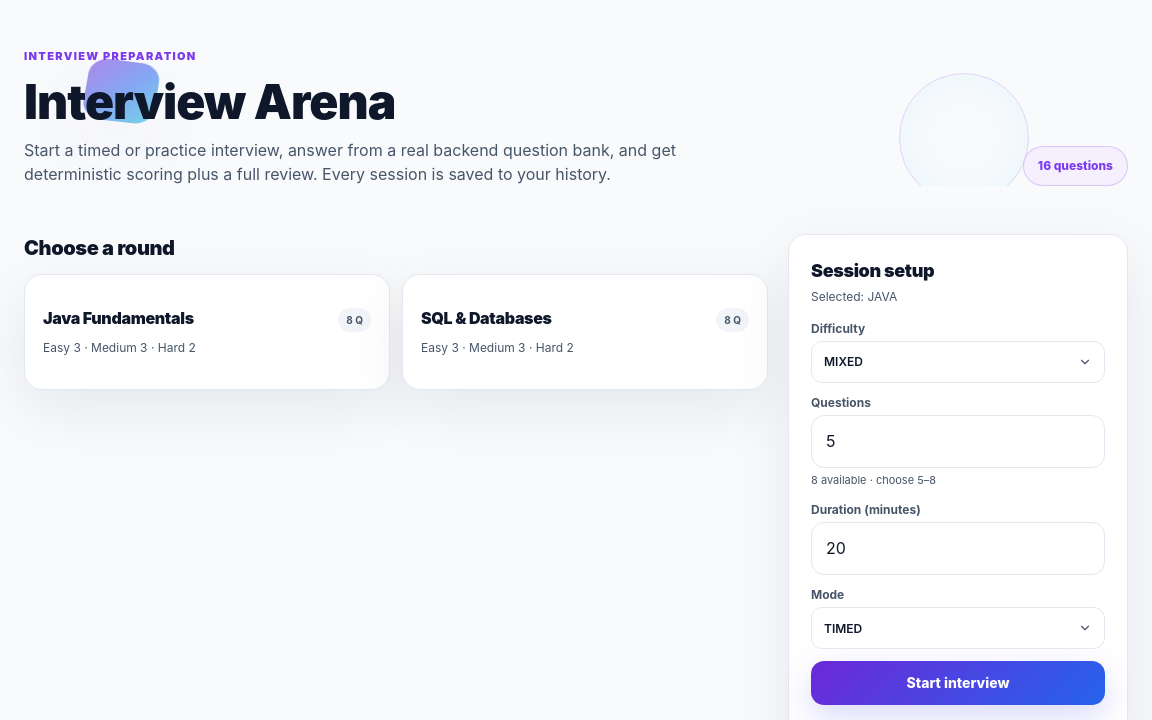
Test: InterviewArena page › starts a backend session and renders the real questions
This screenshot has width=1152, height=720.
What coordinates should you click on to do the following:
click the button "Start interview"
I would click on:
 (958, 683)
Its box is [811,661,1105,705].
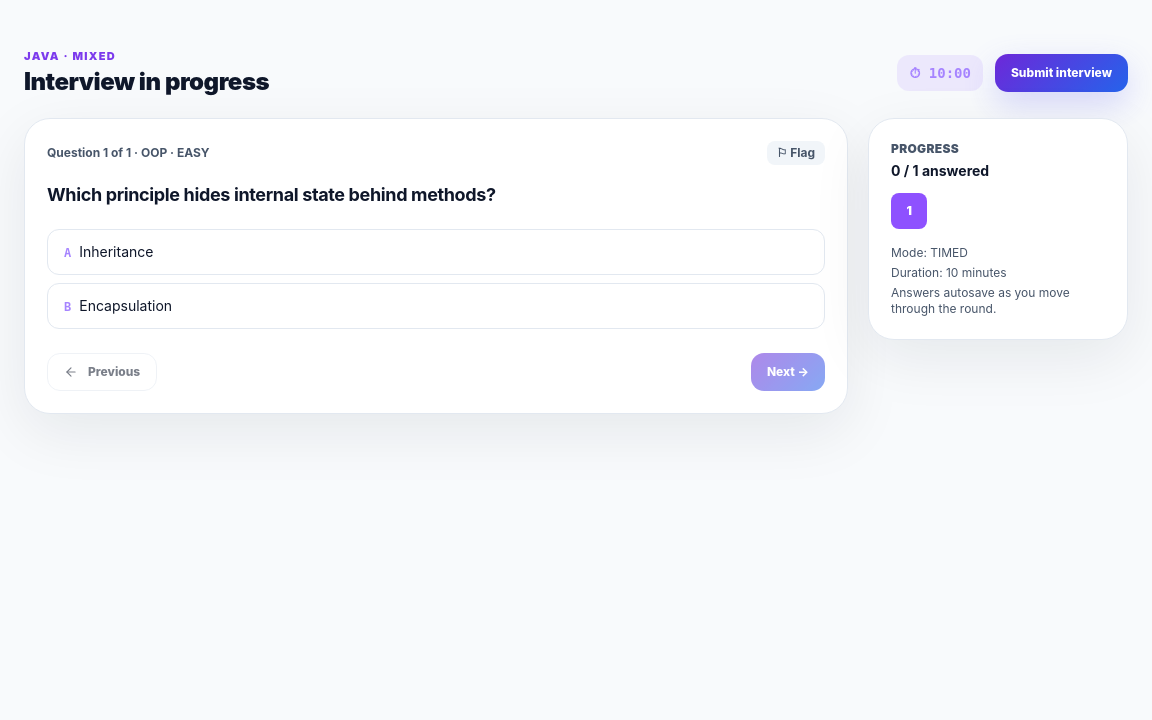
Result: the text "Which principle hides internal state behind methods?" is shown at [47,184,496,205]
Result: the text "Encapsulation" is shown at [47,283,825,329]
